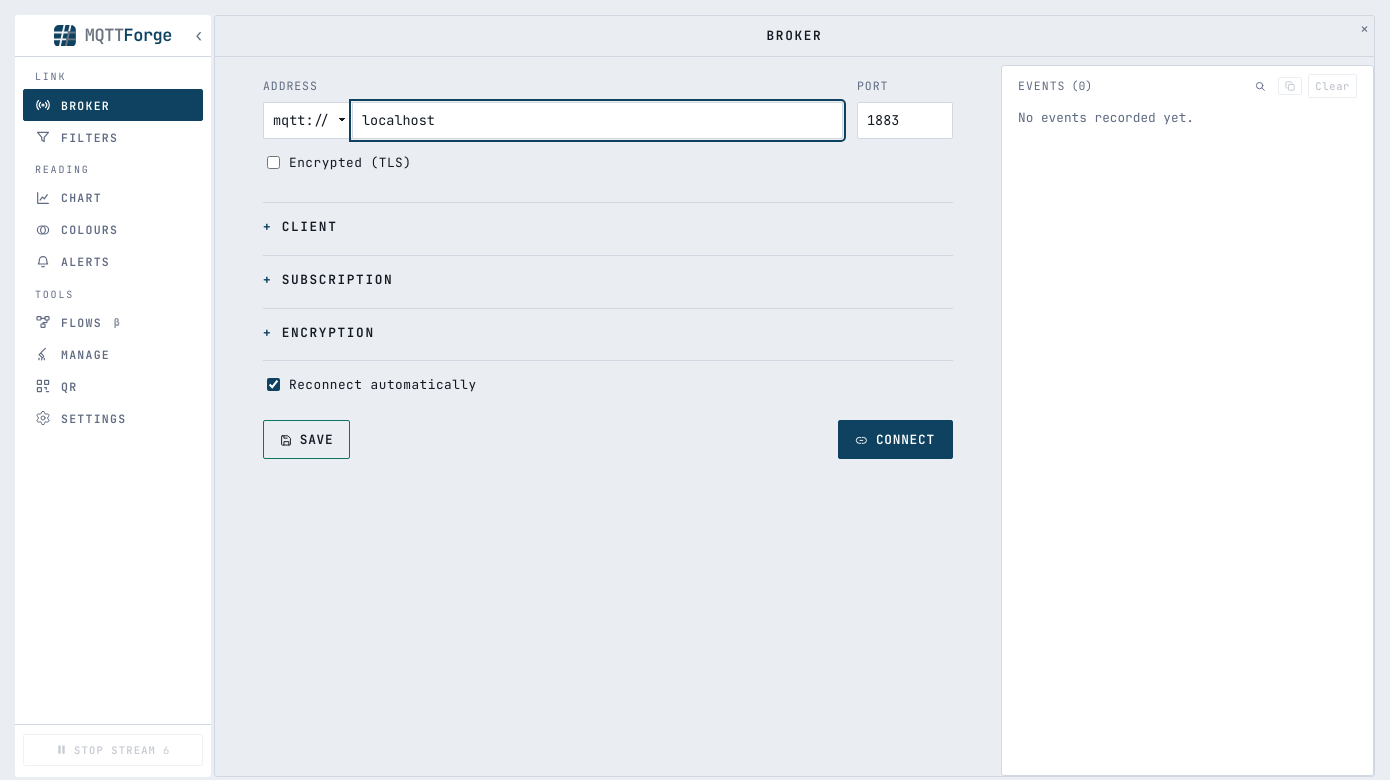
Test: every control answers to the word printed on it › holds with the Alerts panel open
Expected: the button named "Close Broker panel" is shown, left=1355, top=16, right=1374, bottom=38
Click the button "Alerts" at (113, 262), box left=23, top=246, right=203, bottom=278
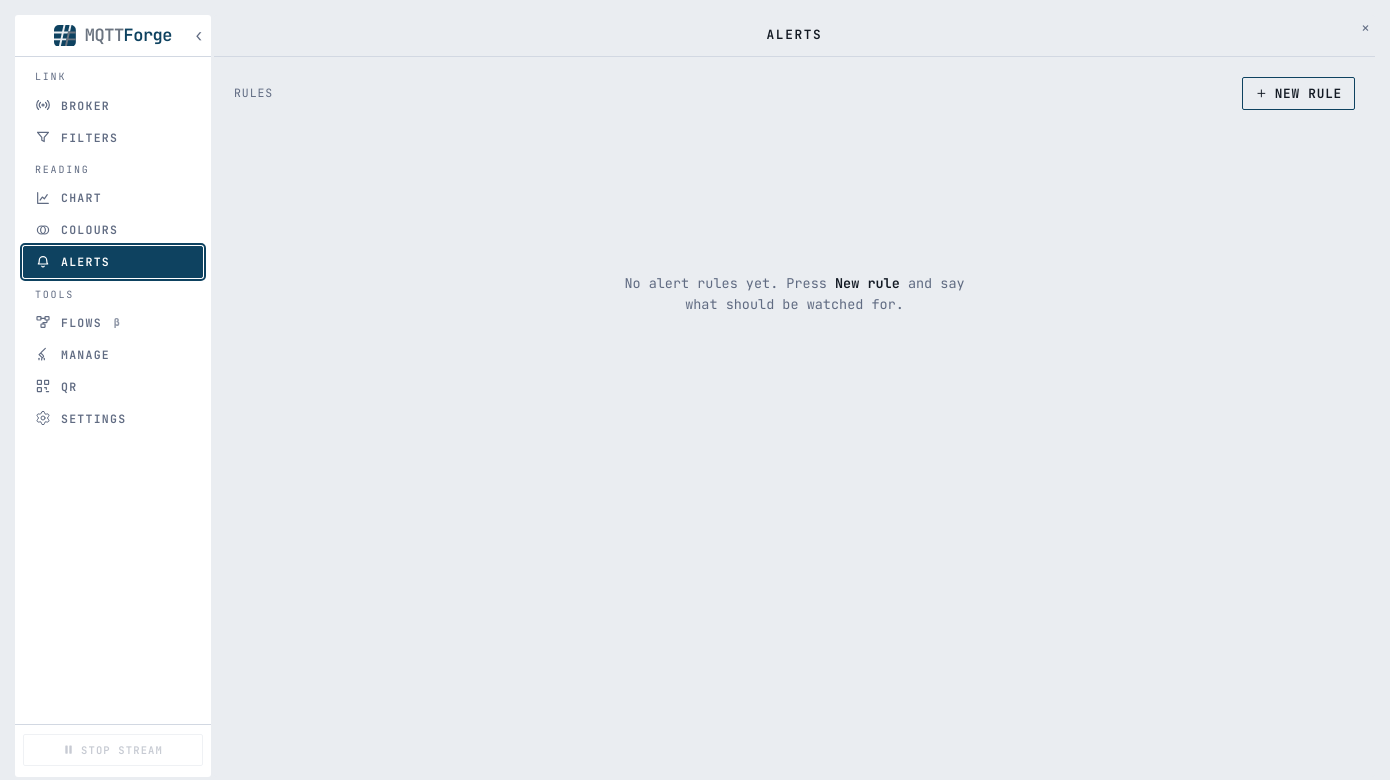
Expected: the element named "Alerts panel" is shown
